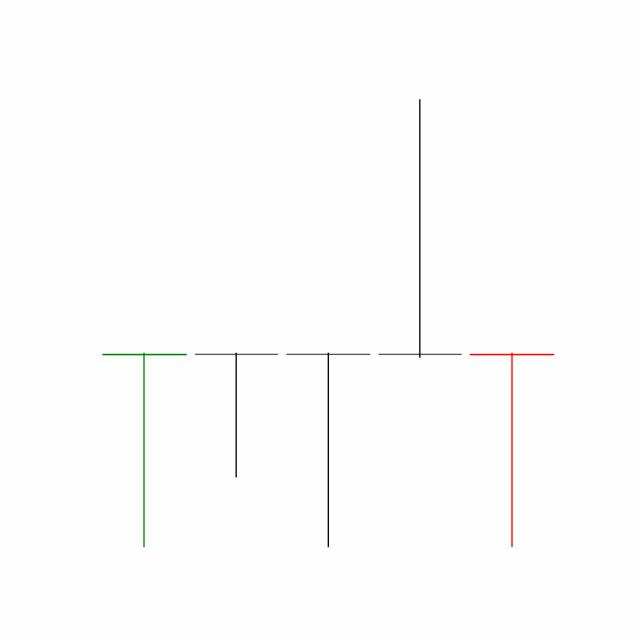Gravestone Doji: (373, 96, 467, 361)
